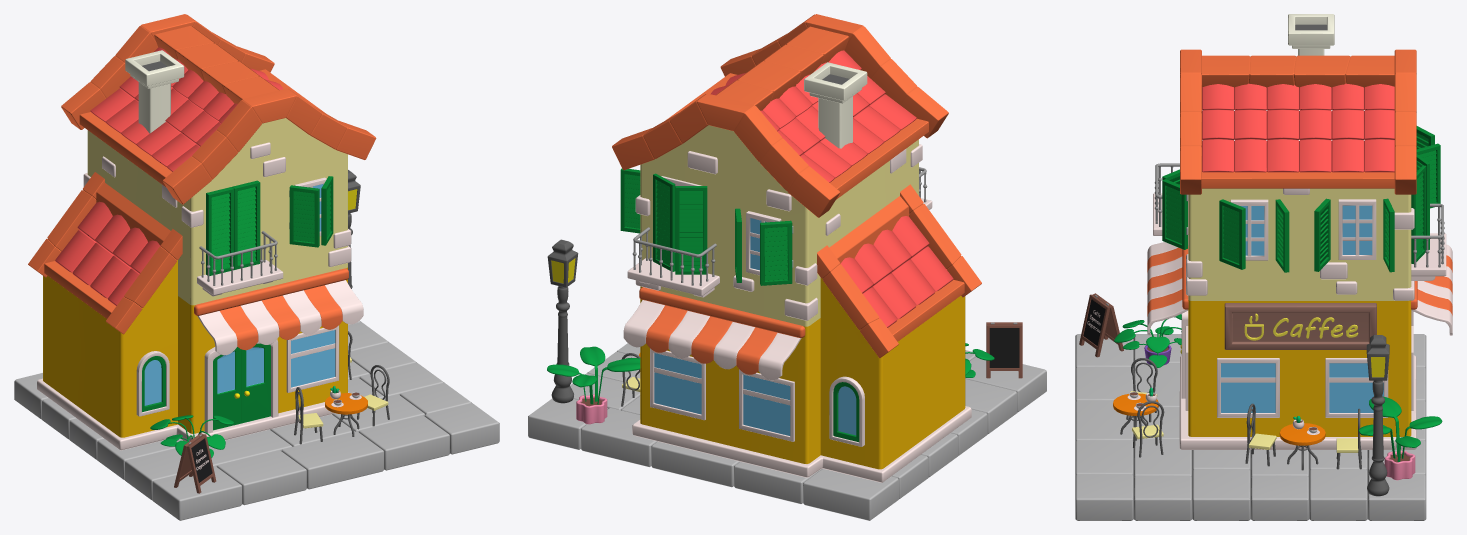
File: City_Island_9.glb
The picture shows the model from 3 angles, left to right: view 1: azimuth 30°, elevation 25°; view 2: azimuth 150°, elevation 25°; view 3: azimuth 270°, elevation 25°; orthographic projection. The views are drawn at different scales.
Parts seen in each view (by area): view 1: City_9_House_1, City_9_Base_1, City_9_Caffe1, City_9_Plant_1, City_9_Table_1, City_9_Chair_2, City_9_Chair_1, City_9_Lantern_1; view 2: City_9_House_1, City_9_Base_1, City_9_Lantern_1, City_9_Plant_2, City_9_Caffe1; view 3: City_9_House_1, City_9_Base_1, City_9_Clffee_Sign_1, City_9_Lantern_1, City_9_Plant_2, City_9_Caffe1, City_9_Plant_1, City_9_Table_2, City_9_Chair_2, City_9_Chair_3, City_9_Table_1, City_9_Chair_4 (+1 smaller).
Part boxes in pixels (x1,y1,x2,y2): City_9_House_1: (28,14,376,450); City_9_Base_1: (14,320,499,520); City_9_Caffe1: (174,433,216,493); City_9_Plant_1: (150,415,233,457); City_9_Table_1: (325,393,367,436); City_9_Chair_2: (357,365,389,426); City_9_Chair_1: (294,387,323,444); City_9_Lantern_1: (348,170,360,288); City_9_House_1: (612,14,981,482); City_9_Base_1: (528,343,1046,520); City_9_Lantern_1: (547,239,578,403); City_9_Plant_2: (547,346,640,424); City_9_Caffe1: (986,322,1022,378); City_9_House_1: (1147,14,1452,449); City_9_Base_1: (1075,334,1426,520); City_9_Clffee_Sign_1: (1224,303,1376,349); City_9_Lantern_1: (1366,335,1389,496); City_9_Plant_2: (1358,396,1442,480); City_9_Caffe1: (1079,293,1123,357); City_9_Plant_1: (1114,314,1181,367); City_9_Table_2: (1279,423,1325,470); City_9_Chair_2: (1132,401,1164,457); City_9_Chair_3: (1245,403,1276,466); City_9_Table_1: (1113,393,1158,440); City_9_Chair_4: (1336,408,1361,469).
Bounding box in the file's own units: 9.8 × 10.37 × 9.39.
Materials: 21 (21 with a texture image).
